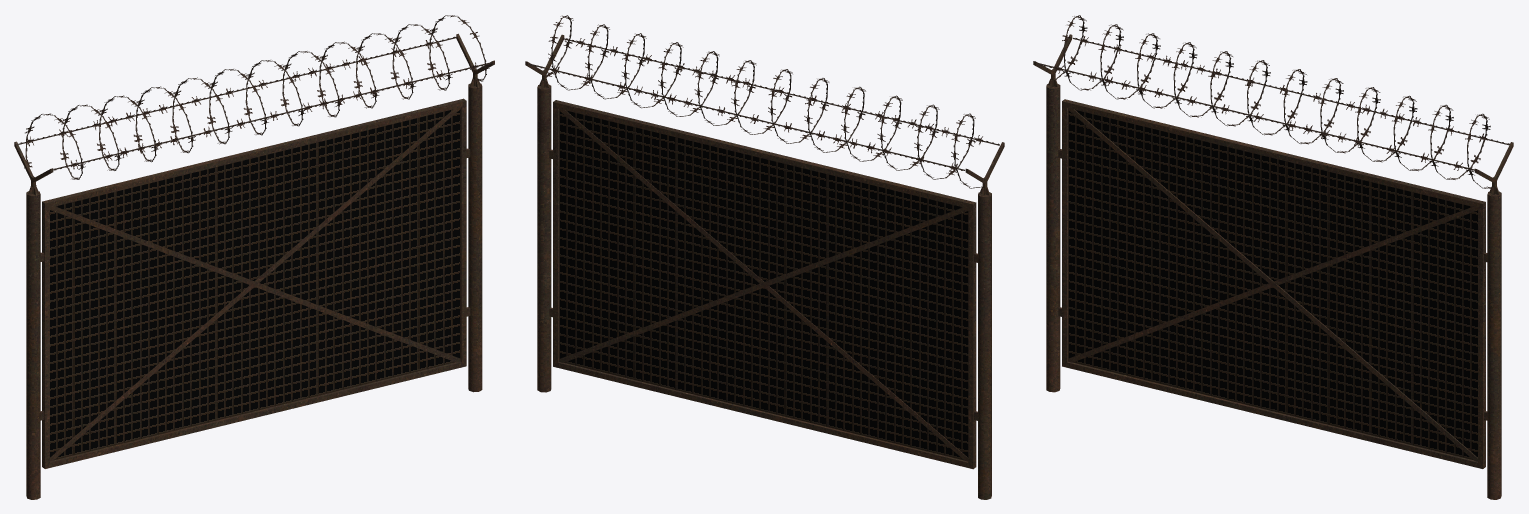
Rendered from fence_e_2.glb.
The picture shows the model from 3 angles, left to right: view 1: azimuth 30°, elevation 25°; view 2: azimuth 150°, elevation 25°; view 3: azimuth 330°, elevation 25°; orthographic projection.
Visible parts, largest first — view 1: fence_e_2; view 2: fence_e_2; view 3: fence_e_2.
Boxes of the visible parts, bbox=[...] form: fence_e_2: bbox=[14, 15, 494, 499]; fence_e_2: bbox=[525, 15, 1004, 499]; fence_e_2: bbox=[1033, 15, 1513, 499].
Size of the model in its own units: 3.61 by 2.85 by 0.5551.
Materials: 3 (3 with a texture image).
